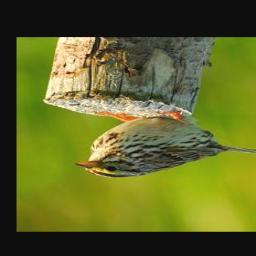Sparrow: (71, 109, 256, 179)
